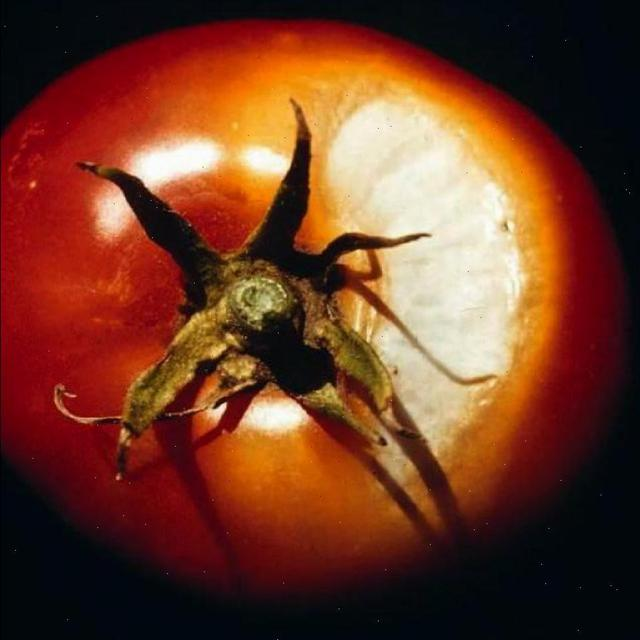Sunscald Fruit: (209, 61, 372, 331)
